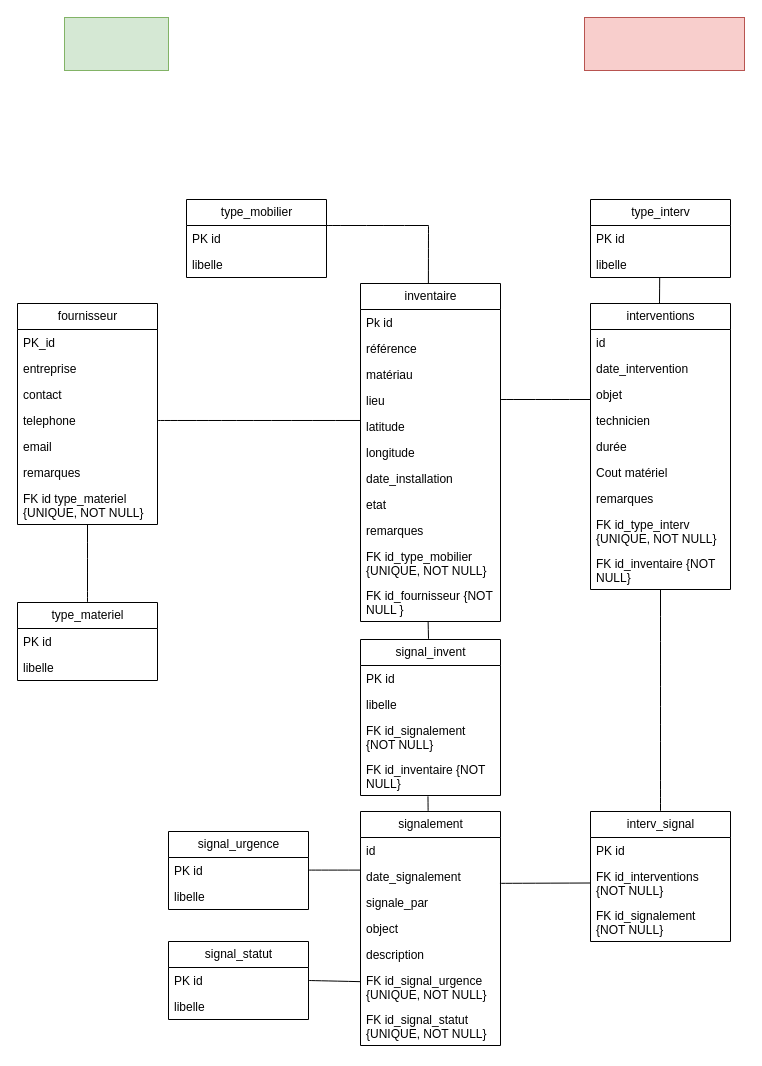
Image size: 762x1066. Some labels were removed from this diagram. The shapes that lost their labels are listed below. From the top down, each one's centre as x and y in pixels, then its label:
At (x=116, y=43): "MLD".
At (x=664, y=43): "Toutes les PK_id sont {unique, not null}".
